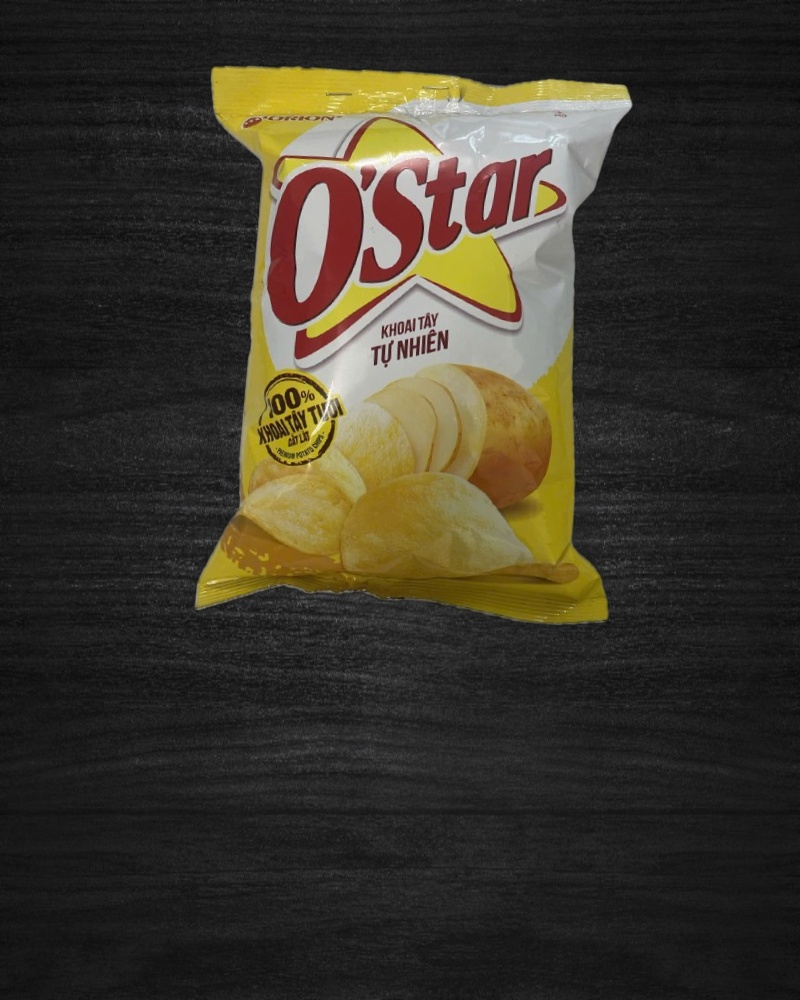O'star: (166, 49, 655, 646)
